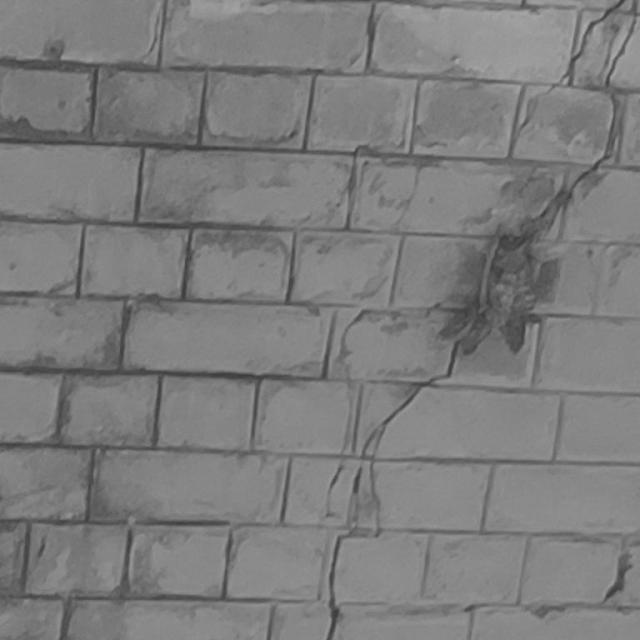crack: (324, 1, 640, 639), (514, 1, 622, 141)
